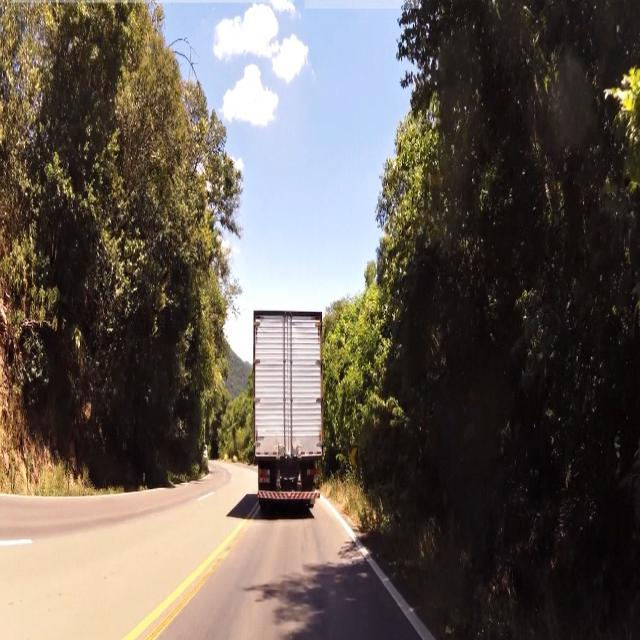Del: (348, 442, 362, 474)
